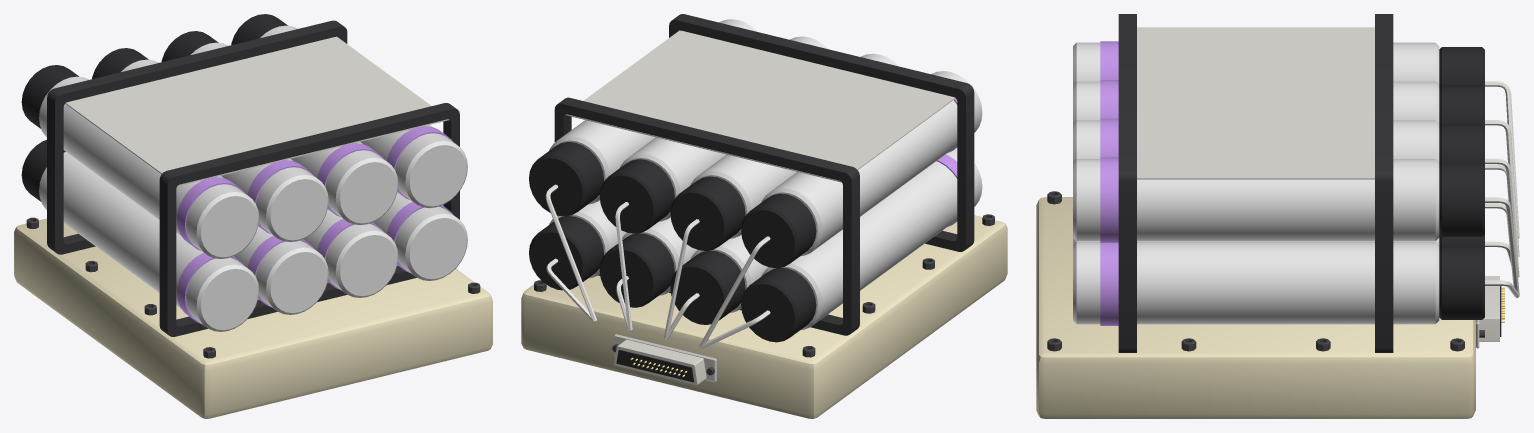
The model's file is neutron_spectrometer.glb.
3 views of the same model, side by side, from view 1: azimuth 30°, elevation 25°; view 2: azimuth 150°, elevation 25°; view 3: azimuth 270°, elevation 25° (orthographic). The views are drawn at different scales.
Visible parts, largest first — view 1: neutron_spectrometer; view 2: neutron_spectrometer; view 3: neutron_spectrometer.
Boxes of the visible parts, x1,y1,x2,y2 form: neutron_spectrometer: (14,14,492,418); neutron_spectrometer: (521,14,1007,418); neutron_spectrometer: (1036,14,1519,418).
Bounding box in the file's own units: 0.084 × 0.06 × 0.1056.
